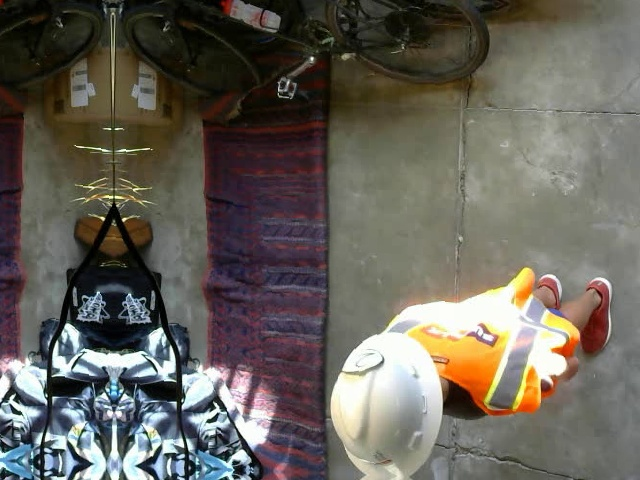two: (340, 344, 382, 374)
